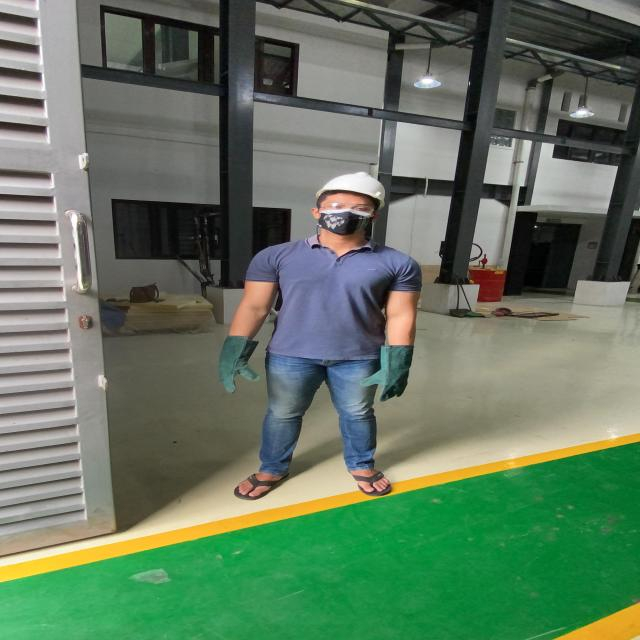face_mask: (315, 197, 375, 234)
glasses: (315, 202, 379, 214)
hand_glove: (352, 361, 416, 402), (211, 350, 264, 394)
head_helmet: (311, 170, 390, 204)
person: (208, 166, 434, 500)
